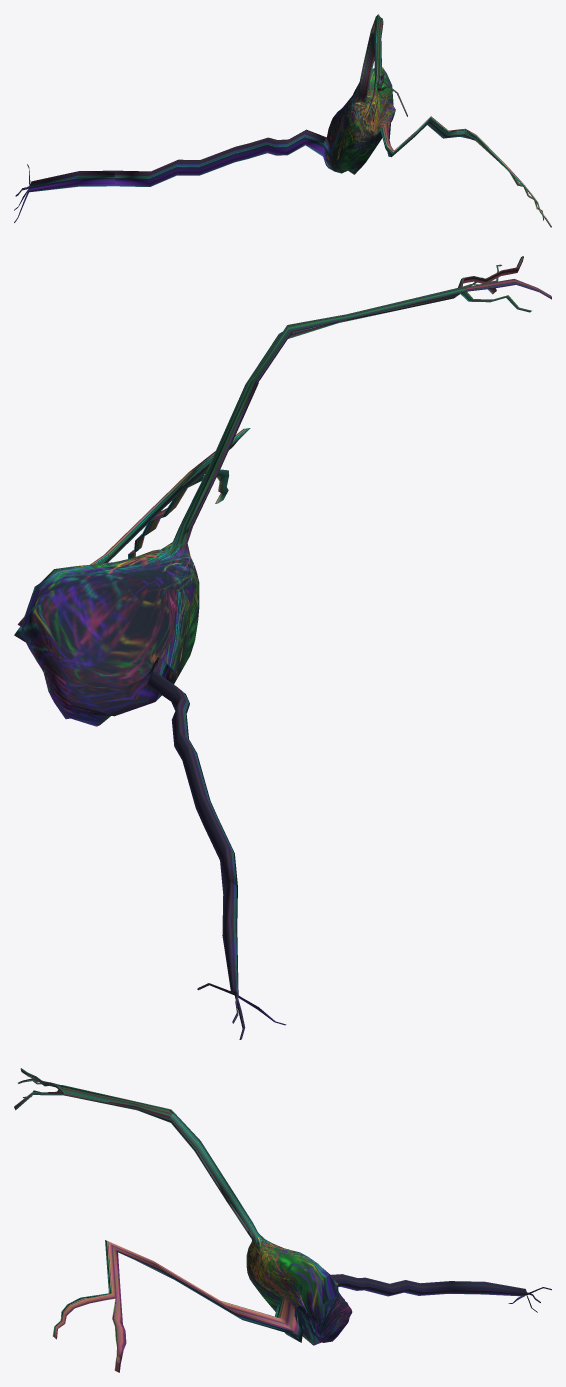
File: lastneuron6.fbx
3 renders of one model, top to bottom at view 1: azimuth 30°, elevation 25°; view 2: azimuth 150°, elevation 25°; view 3: azimuth 270°, elevation 25°, orthographic. The views are drawn at different scales.
Parts seen in each view (by area): view 1: DONE1 ex; view 2: DONE1 ex; view 3: DONE1 ex.
Part boxes in pixels (x1,y1,x2,y2): DONE1 ex: (14, 14, 551, 227); DONE1 ex: (14, 256, 551, 1039); DONE1 ex: (14, 1068, 551, 1372).
Bounding box in the file's own units: 38724 × 35718 × 61352.
